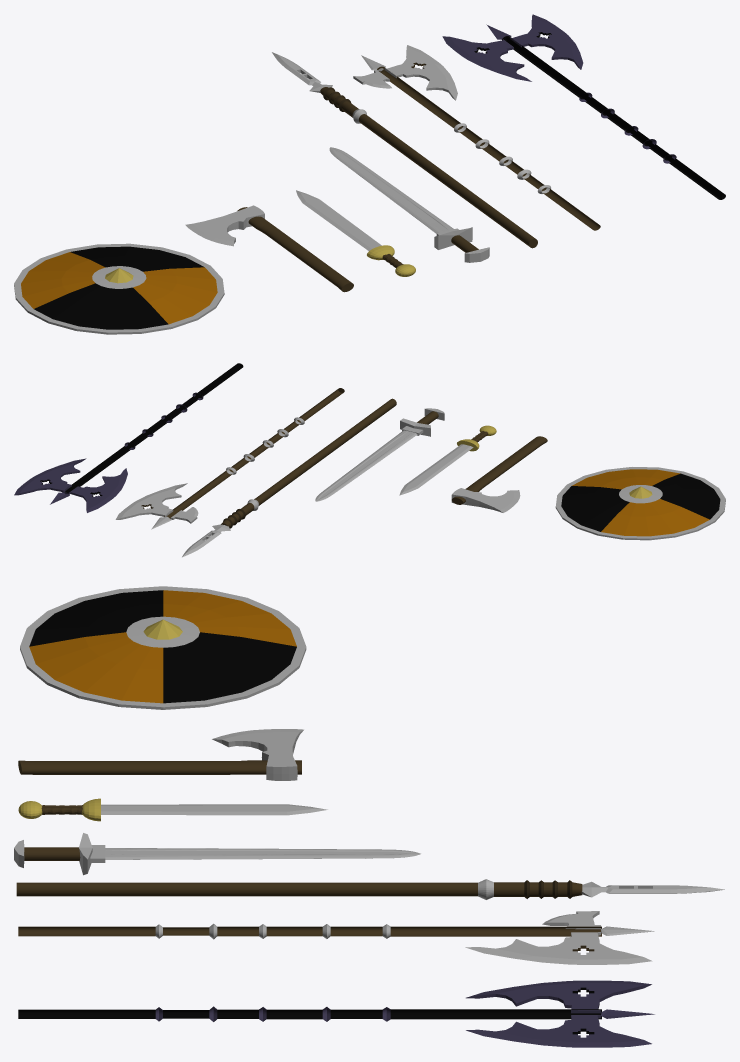
The model's file is bronie.fbx.
The picture shows the model from 3 angles, top to bottom: view 1: azimuth 30°, elevation 25°; view 2: azimuth 150°, elevation 25°; view 3: azimuth 270°, elevation 25°; orthographic projection. The views are drawn at different scales.
Parts seen in each view (by area): view 1: tarcza, final boss broniczka, Halabarda, Włócznia, toporek, nordic sword, gladius; view 2: tarcza, final boss broniczka, Halabarda, Włócznia, toporek, nordic sword, gladius; view 3: tarcza, final boss broniczka, Halabarda, Włócznia, toporek, nordic sword, gladius.
Boxes of the visible parts, x1,y1,x2,y2 form: tarcza: (14,243,224,334); final boss broniczka: (442,14,725,199); Halabarda: (353,45,600,230); Włócznia: (272,52,537,248); toporek: (185,205,353,292); nordic sword: (329,147,489,262); gladius: (296,190,415,276); tarcza: (555,467,725,540); final boss broniczka: (14,363,243,512); Halabarda: (115,388,344,529); Włócznia: (182,398,396,557); toporek: (451,436,547,512); nordic sword: (315,408,444,501); gladius: (399,425,496,495); tarcza: (20,586,306,709); final boss broniczka: (18,980,654,1047); Halabarda: (18,911,654,964); Włócznia: (16,879,724,899); toporek: (18,729,303,780); nordic sword: (14,833,420,875); gladius: (18,798,327,821).
Bounding box in the file's own units: 1658 × 71.38 × 1092.
